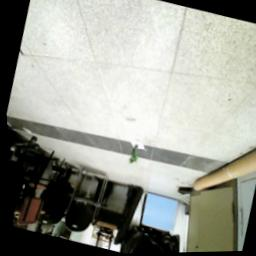herb: (125, 145, 140, 167)
